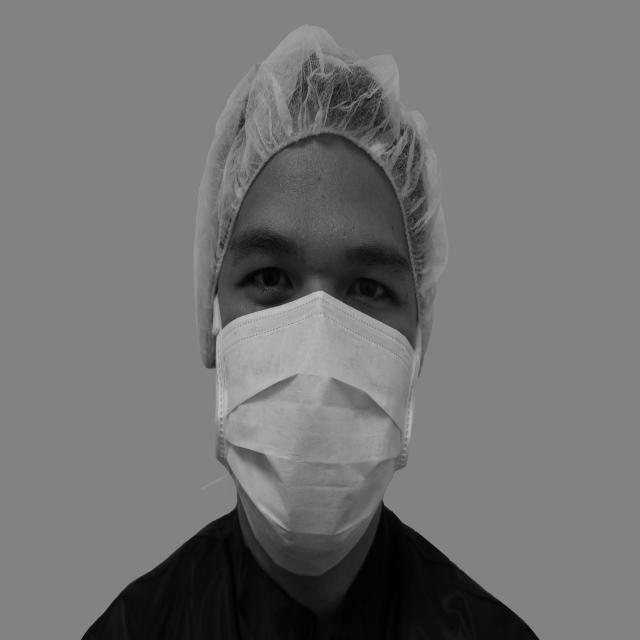fake: (200, 286, 428, 571)
real: (215, 145, 421, 585)
